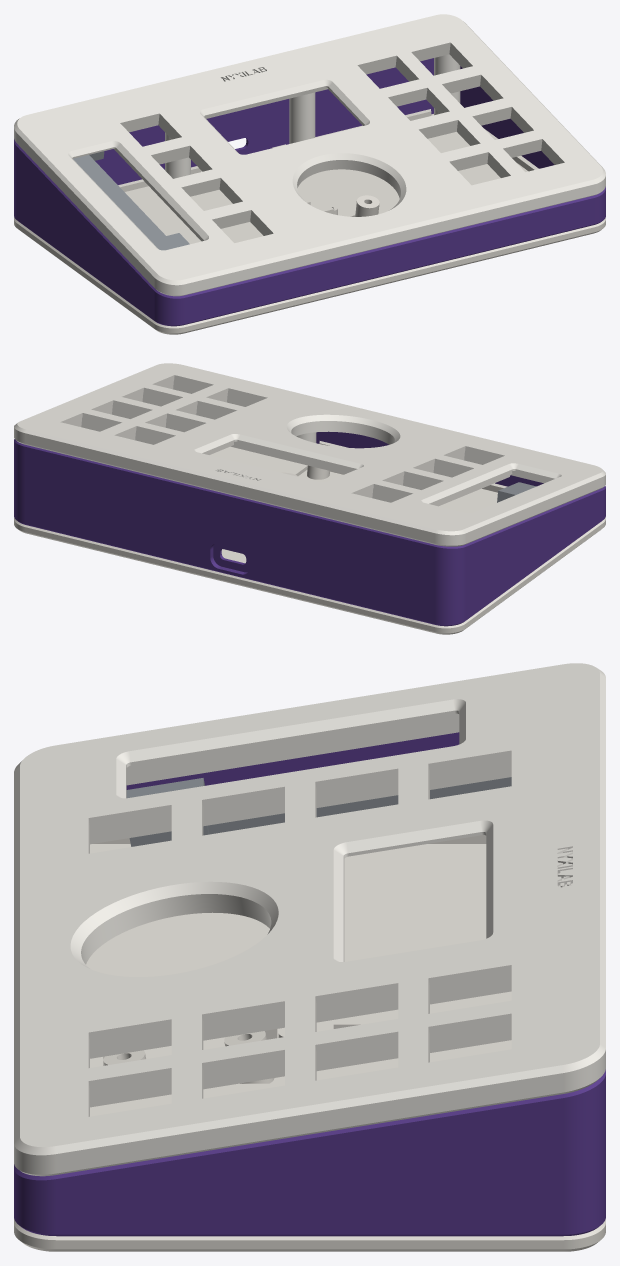
Rendered from macropad_case.glb.
3 renders of one model, top to bottom at view 1: azimuth 30°, elevation 25°; view 2: azimuth 150°, elevation 25°; view 3: azimuth 270°, elevation 25°, orthographic. The views are drawn at different scales.
Visible parts, largest first — view 1: top_plate, frame, base, bar_spine; view 2: top_plate, frame, base, bar_spine; view 3: top_plate, frame, base, bar_spine.
Part boxes in pixels (left/top/right/bottom): top_plate: left=14, top=14, right=605, bottom=296; frame: left=14, top=58, right=605, bottom=326; base: left=14, top=109, right=605, bottom=334; bar_spine: left=73, top=151, right=189, bottom=250; top_plate: left=14, top=363, right=605, bottom=546; frame: left=14, top=431, right=605, bottom=626; base: left=14, top=441, right=605, bottom=634; bar_spine: left=497, top=482, right=536, bottom=502; top_plate: left=14, top=663, right=605, bottom=1176; frame: left=14, top=732, right=605, bottom=1236; base: left=14, top=835, right=605, bottom=1251; bar_spine: left=126, top=777, right=511, bottom=846.
Size of the model in its own units: 0.159 by 0.0351 by 0.098.
